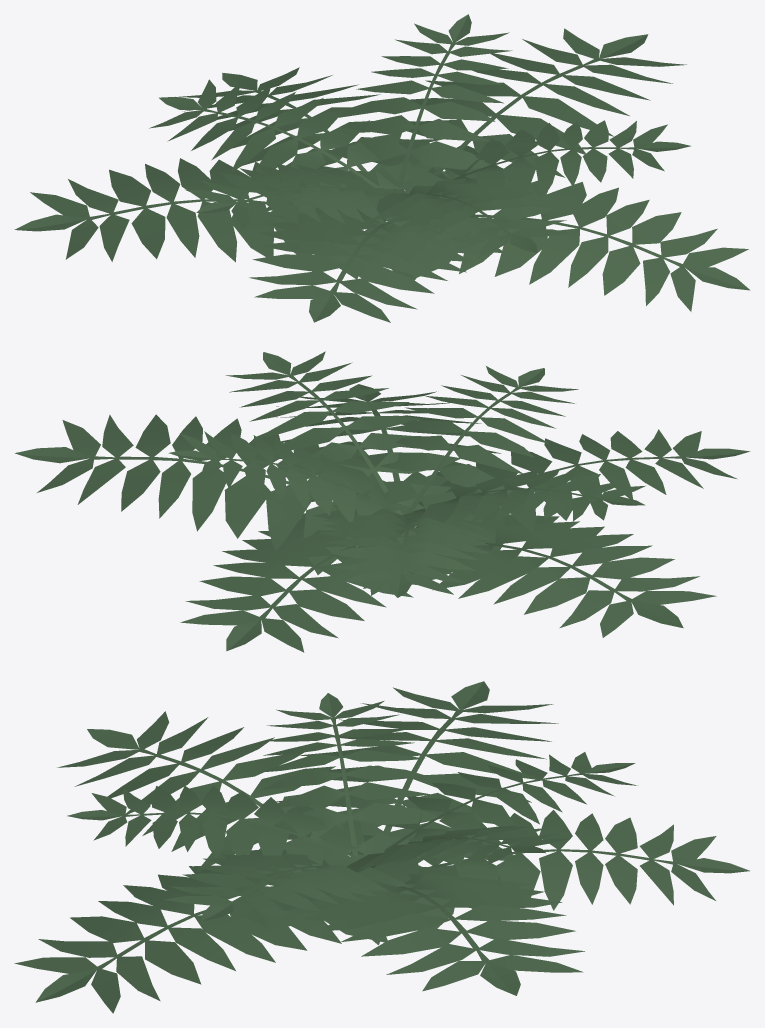
Rendered from plante2_v2.fbx.
3 views of the same model, one above another, from view 1: azimuth 30°, elevation 25°; view 2: azimuth 150°, elevation 25°; view 3: azimuth 270°, elevation 25° (orthographic). The views are drawn at different scales.
Visible parts, largest first — view 1: Plane.023; view 2: Plane.023; view 3: Plane.023.
Part boxes in pixels (left/top/right/bottom): Plane.023: left=14, top=14, right=750, bottom=322; Plane.023: left=15, top=351, right=750, bottom=652; Plane.023: left=14, top=681, right=749, bottom=1013.
Bounding box in the file's own units: 3160 × 569 × 2863.
